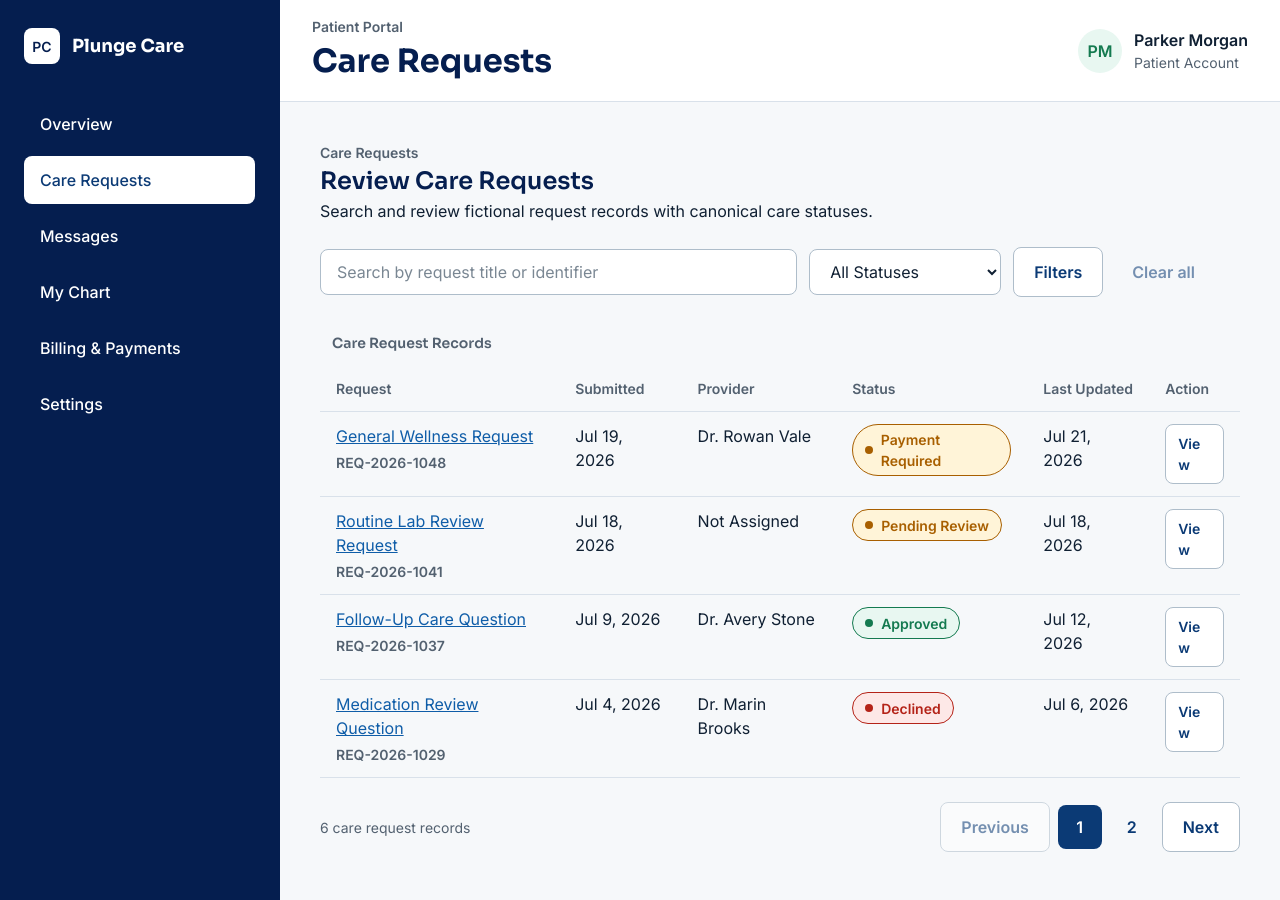
Scenario: care requests › searches by title or identifier and filters by status
The image size is (1280, 900).
Type "REQ-2026-1041" into the search field labelled "Search by request title or identifier" at (559, 272), box top-left (321, 250), bottom-right (796, 294)
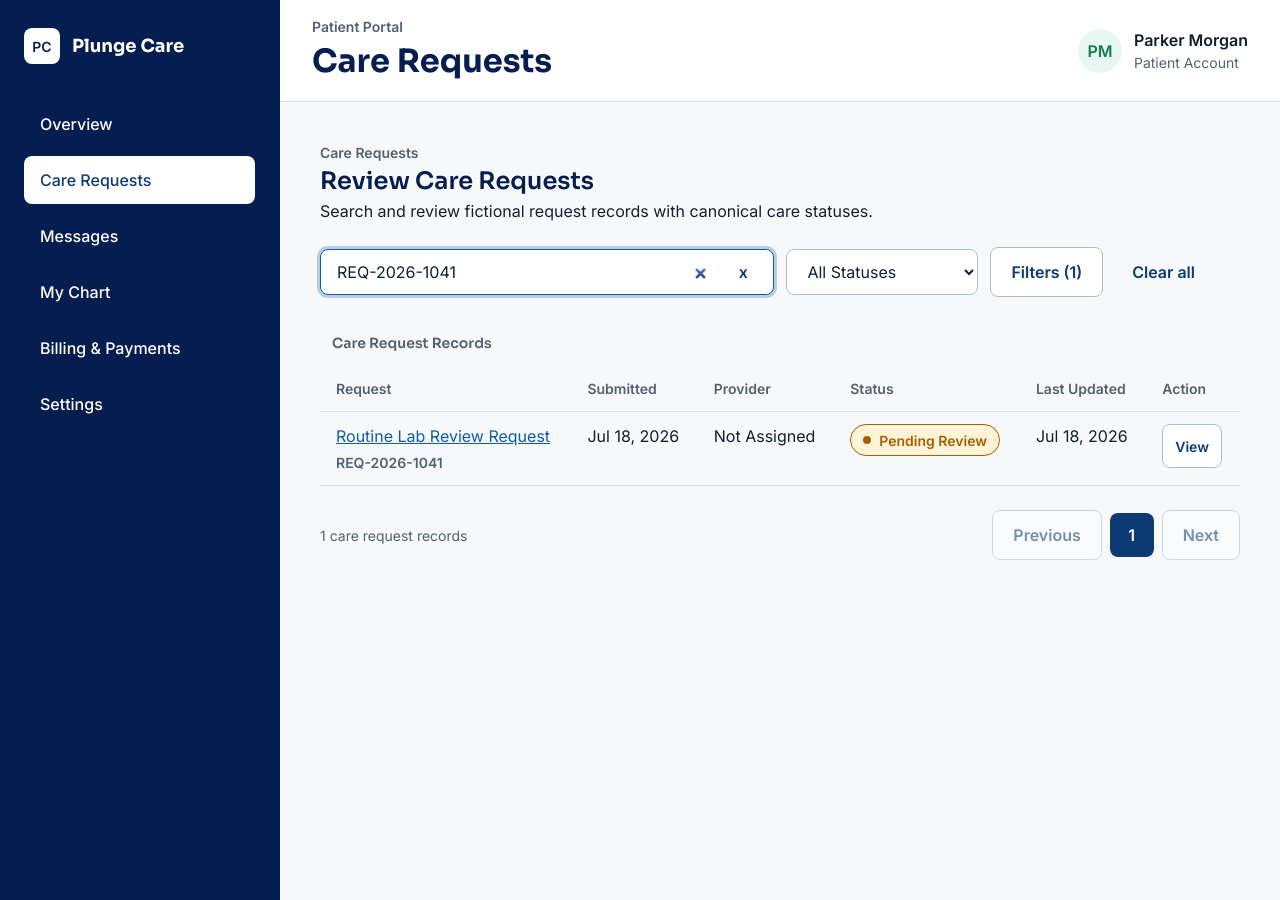
Check: the link "Routine Lab Review Request" is shown, box top-left (336, 426), bottom-right (550, 446)
Check: the link "General Wellness Request" is gone
Select "Payment Failed" in the dropdown named "Filter by status" at (882, 272), box top-left (787, 250), bottom-right (977, 294)
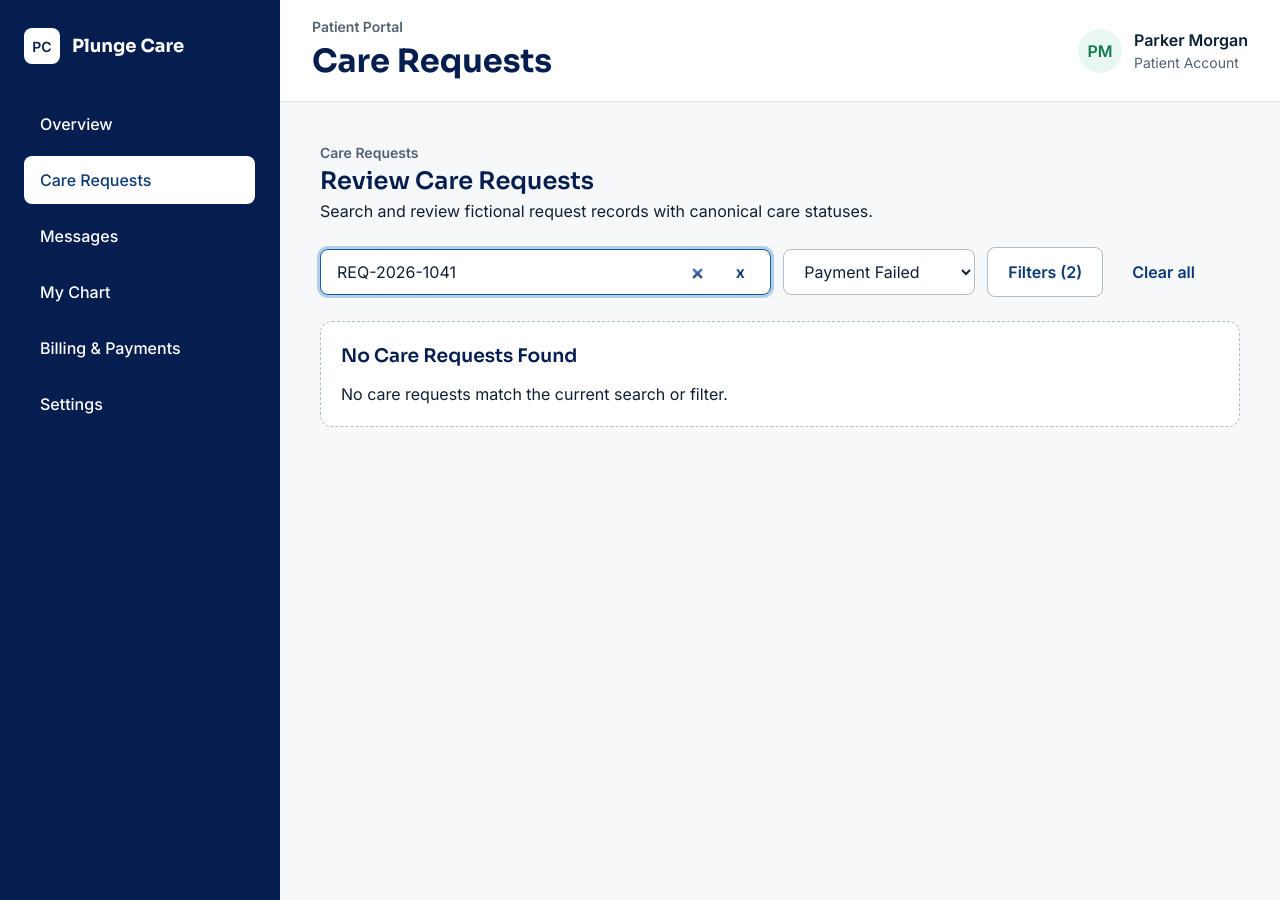
Check: the heading "No Care Requests Found" is shown, box top-left (341, 342), bottom-right (577, 370)
